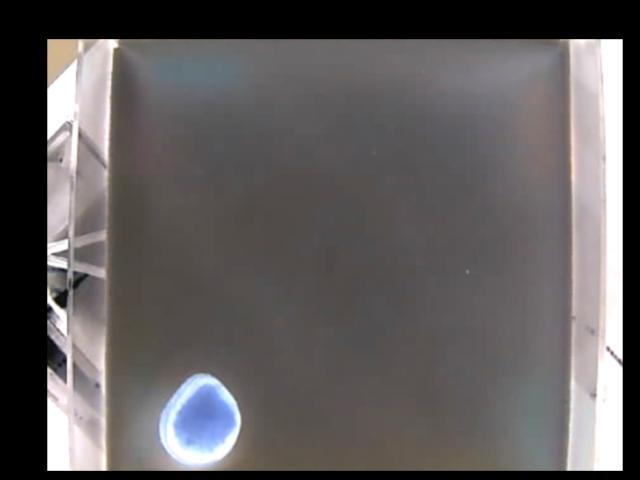Potato: (159, 371, 242, 464)
